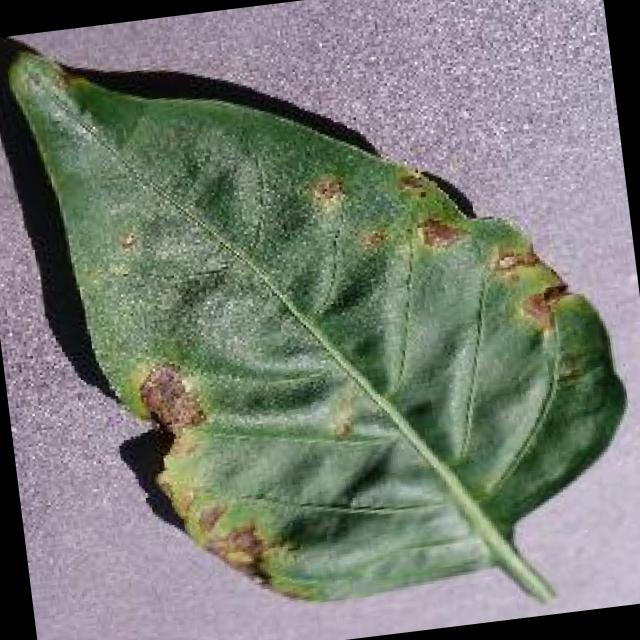Chilli_Bacterial_Spot: (0, 0, 640, 640), (484, 238, 574, 344), (132, 356, 210, 440), (200, 512, 276, 590), (512, 278, 573, 338), (410, 210, 465, 256), (319, 392, 360, 446), (304, 168, 350, 213), (488, 243, 540, 279), (389, 161, 431, 203), (354, 223, 395, 257), (112, 226, 144, 258)
